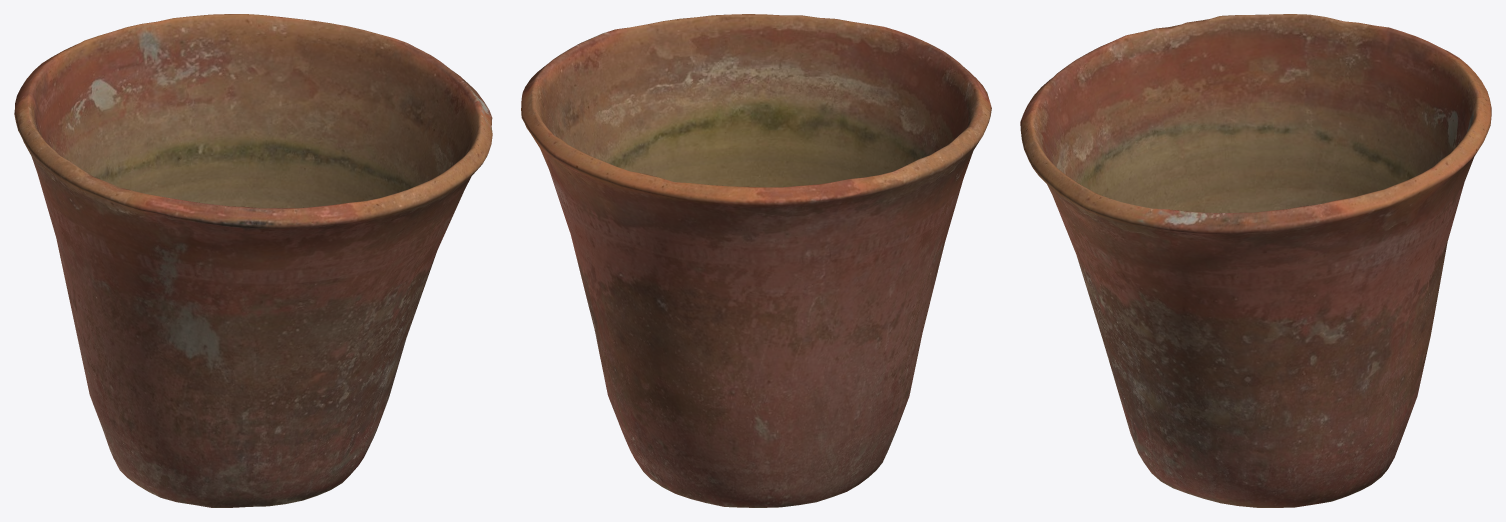
Rendered from pot.glb.
The picture shows the model from 3 angles, left to right: view 1: azimuth 30°, elevation 25°; view 2: azimuth 150°, elevation 25°; view 3: azimuth 270°, elevation 25°; orthographic projection.
Visible parts, largest first — view 1: intact, frag_08, frag_06, frag_11, frag_03, frag_01, frag_04, frag_10, frag_05, frag_00, frag_02, frag_09 (+2 smaller); view 2: intact, frag_04, frag_05, frag_12, frag_08, frag_03, frag_07, frag_15, frag_09, frag_10, frag_02, frag_06 (+3 smaller); view 3: intact, frag_09, frag_07, frag_08, frag_00, frag_06, frag_15, frag_14, frag_03, frag_05, frag_02, frag_04 (+3 smaller).
Boxes of the visible parts, box(x1,y1,x2,y2) form: intact: box(14, 14, 492, 507); frag_08: box(162, 45, 354, 206); frag_06: box(97, 185, 290, 390); frag_11: box(191, 338, 391, 484); frag_03: box(327, 23, 491, 156); frag_01: box(94, 24, 329, 106); frag_04: box(290, 135, 490, 350); frag_10: box(69, 299, 192, 469); frag_05: box(19, 38, 162, 196); frag_00: box(14, 84, 111, 215); frag_02: box(152, 195, 362, 278); frag_09: box(338, 122, 455, 301); intact: box(521, 14, 991, 507); frag_04: box(662, 20, 894, 185); frag_05: box(648, 183, 849, 372); frag_12: box(680, 346, 849, 487); frag_08: box(543, 153, 674, 364); frag_03: box(521, 20, 668, 147); frag_07: box(834, 168, 965, 349); frag_15: box(629, 432, 895, 507); frag_09: box(573, 60, 701, 183); frag_10: box(843, 290, 932, 461); frag_02: box(872, 25, 988, 124); frag_06: box(888, 94, 991, 287); intact: box(1020, 14, 1491, 507); frag_09: box(1129, 235, 1348, 400); frag_07: box(1207, 65, 1376, 211); frag_08: box(1343, 200, 1459, 363); frag_00: box(1179, 15, 1402, 76); frag_06: box(1082, 26, 1212, 210); frag_15: box(1135, 443, 1399, 507); frag_14: box(1122, 349, 1298, 488); frag_03: box(1112, 186, 1402, 275); frag_05: box(1365, 51, 1485, 190); frag_02: box(1026, 34, 1134, 154); frag_04: box(1023, 118, 1139, 348).
Bounding box in the file's own units: 0.201 × 0.1676 × 0.199.
Materials: 2 (2 with a texture image).
